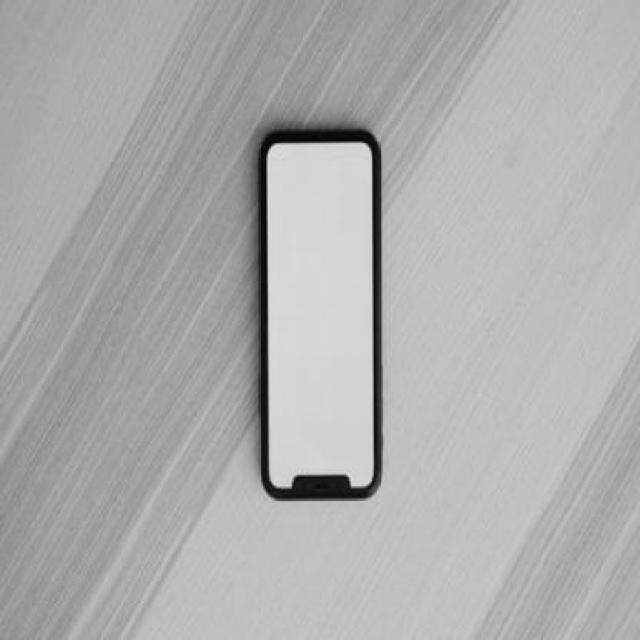fake: (257, 126, 383, 506)
